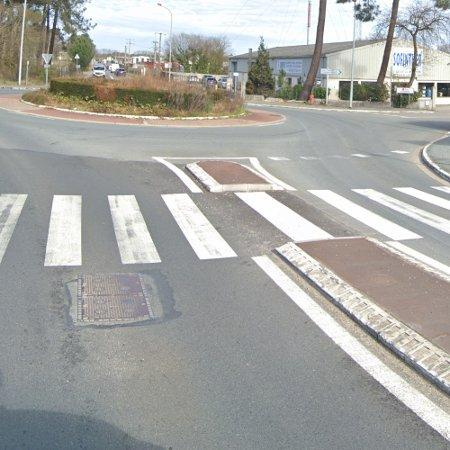crosswalks: (0, 180, 450, 268)
